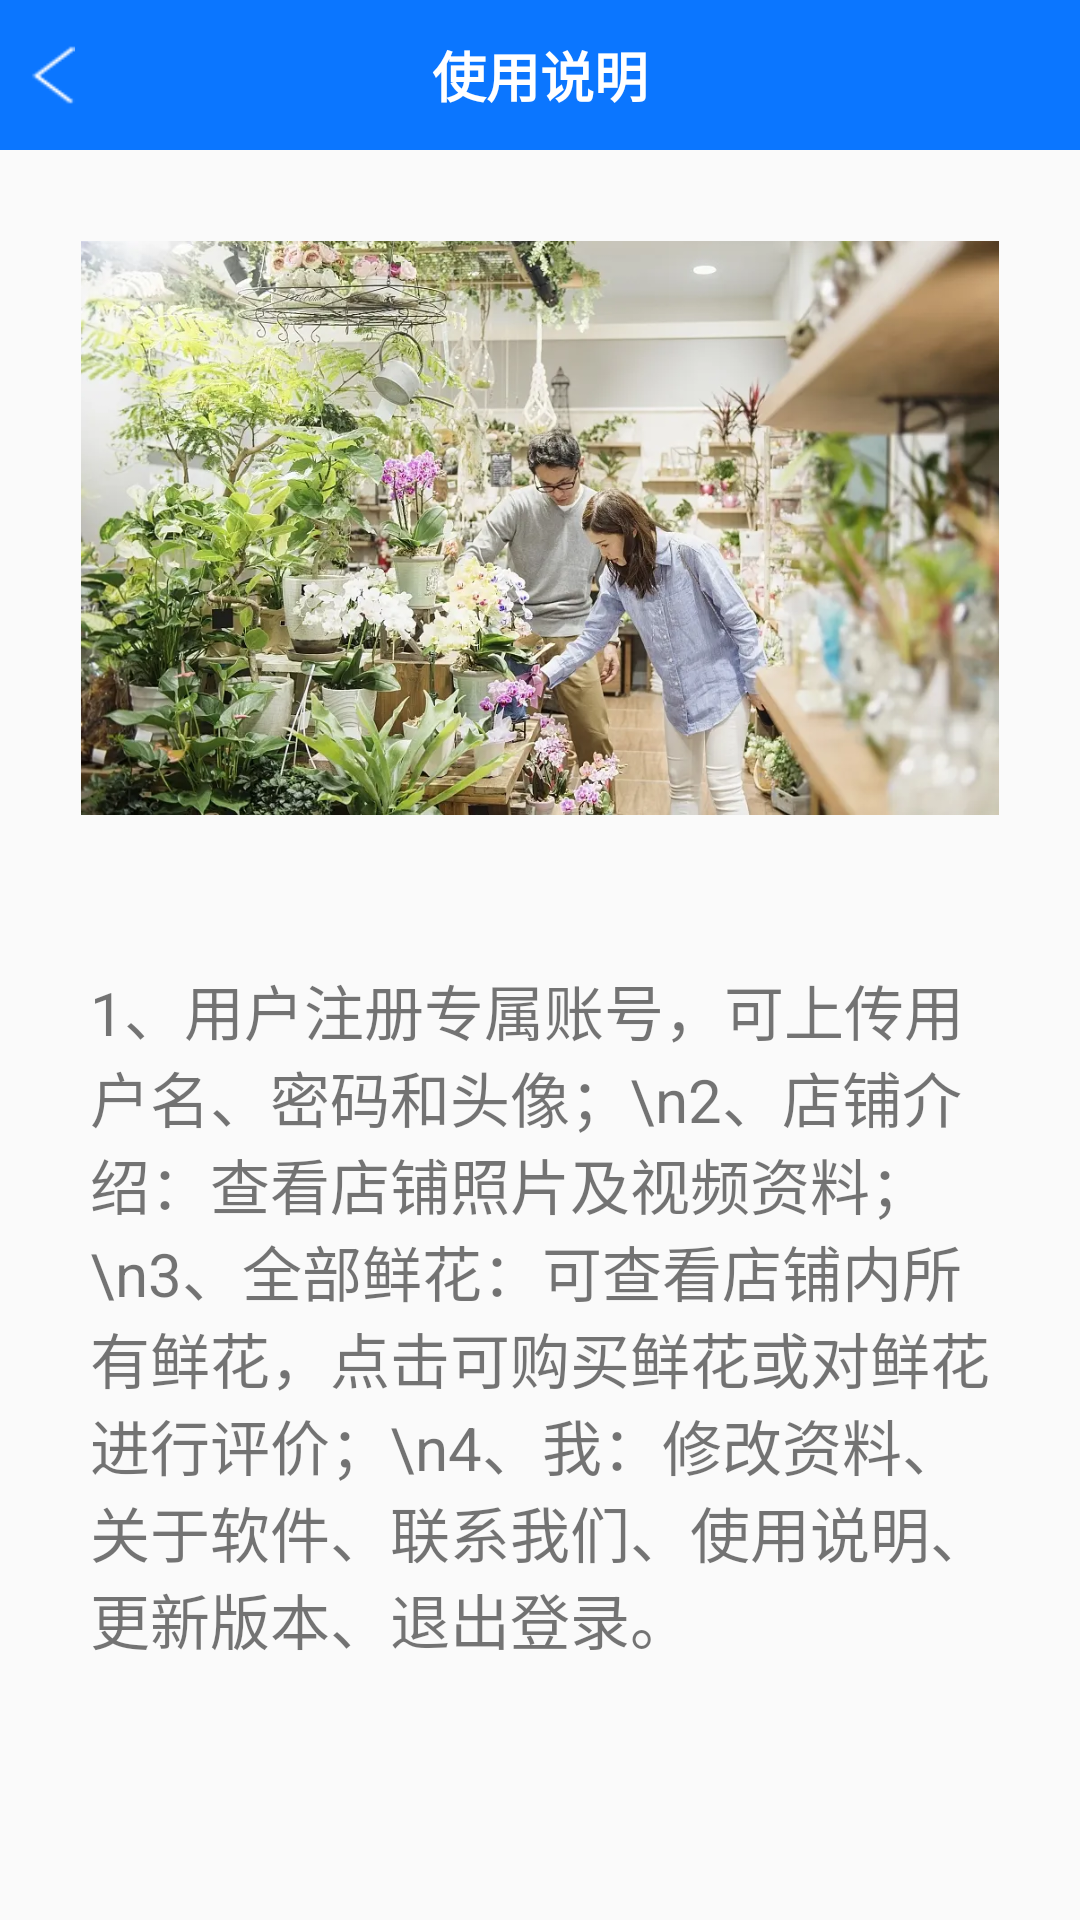

Icons on this 1080w x 1920h Android screen, each with the point to tap as [x,y]:
left: [53,75]
